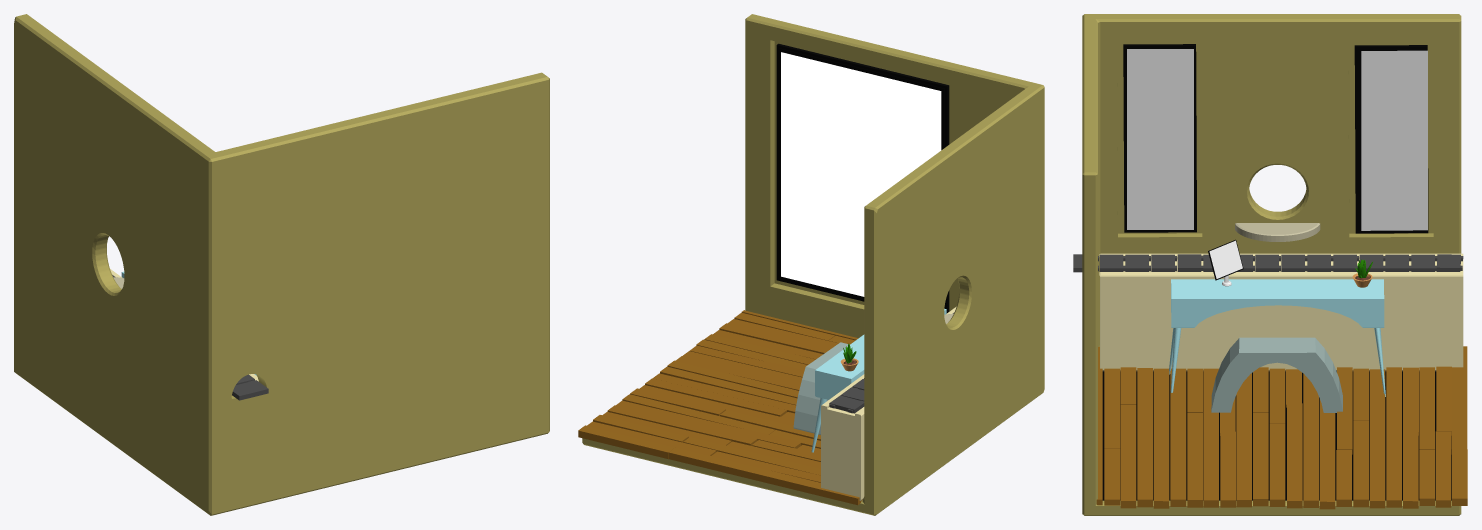
File: holeinthewall.glb
3 renders of one model, left to right at view 1: azimuth 30°, elevation 25°; view 2: azimuth 150°, elevation 25°; view 3: azimuth 270°, elevation 25°, orthographic. The views are drawn at different scales.
Visible parts, largest first — view 1: Cube.017; view 2: Cube.017, Cube.071, chickenlady, sushi belt counter, Cube.001, Cube.002, Cylinder.001; view 3: Cube.017, Cube.071, sushi belt counter, Lodz-Poland, Paris-France-3, Cube.002, Cylinder.001, Plane, Cube.004, Cube.005, Shelf, Landing Page (+10 smaller).
Boxes of the visible parts, x1=… form: Cube.017: x1=14, y1=14, x2=549, y2=515; Cube.017: x1=582, y1=14, x2=1044, y2=515; Cube.071: x1=578, y1=310, x2=862, y2=505; chickenlady: x1=781, y1=52, x2=941, y2=296; sushi belt counter: x1=821, y1=306, x2=956, y2=500; Cube.001: x1=776, y1=43, x2=949, y2=313; Cube.002: x1=811, y1=308, x2=946, y2=452; Cylinder.001: x1=793, y1=342, x2=848, y2=434; Cube.017: x1=1082, y1=14, x2=1461, y2=515; Cube.071: x1=1096, y1=346, x2=1467, y2=509; sushi belt counter: x1=1099, y1=253, x2=1463, y2=371; Lodz-Poland: x1=1127, y1=49, x2=1193, y2=229; Paris-France-3: x1=1361, y1=50, x2=1427, y2=230; Cube.002: x1=1169, y1=279, x2=1385, y2=396; Cylinder.001: x1=1211, y1=337, x2=1342, y2=412; Plane: x1=1102, y1=371, x2=1451, y2=500; Cube.004: x1=1354, y1=45, x2=1428, y2=233; Cube.005: x1=1123, y1=44, x2=1196, y2=232; Shelf: x1=1235, y1=223, x2=1320, y2=241; Landing Page: x1=1208, y1=239, x2=1243, y2=280.
Size of the model in its own units: 2.01 by 2 by 2.08.
